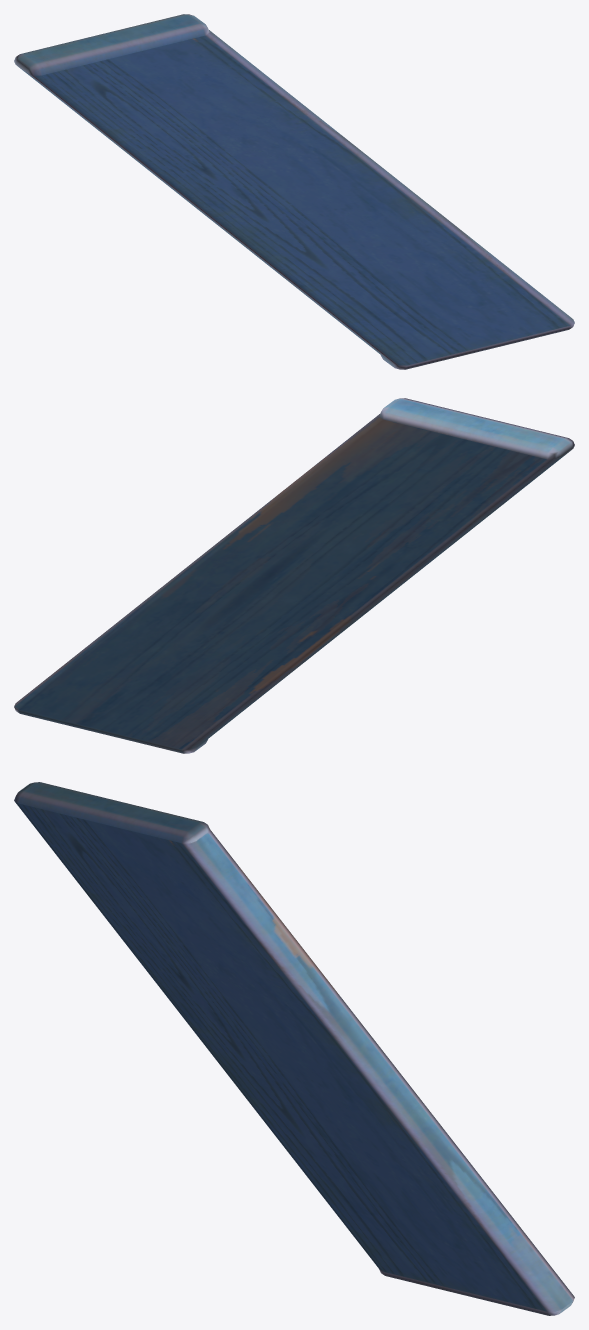
File: SM_Shelf_Support.fbx
3 renders of one model, top to bottom at view 1: azimuth 30°, elevation 25°; view 2: azimuth 150°, elevation 25°; view 3: azimuth 330°, elevation 25°, orthographic.
Visible parts, largest first — view 1: SM_Shelf_Support_LOD0; view 2: SM_Shelf_Support_LOD0; view 3: SM_Shelf_Support_LOD0.
Boxes of the visible parts, box(x1,y1,x2,y2) form: SM_Shelf_Support_LOD0: box(14, 14, 574, 369); SM_Shelf_Support_LOD0: box(14, 398, 574, 753); SM_Shelf_Support_LOD0: box(14, 782, 574, 1315).
Size of the model in its own units: 85.28 by 6.34 by 58.92.
1 material, 1 textured.
